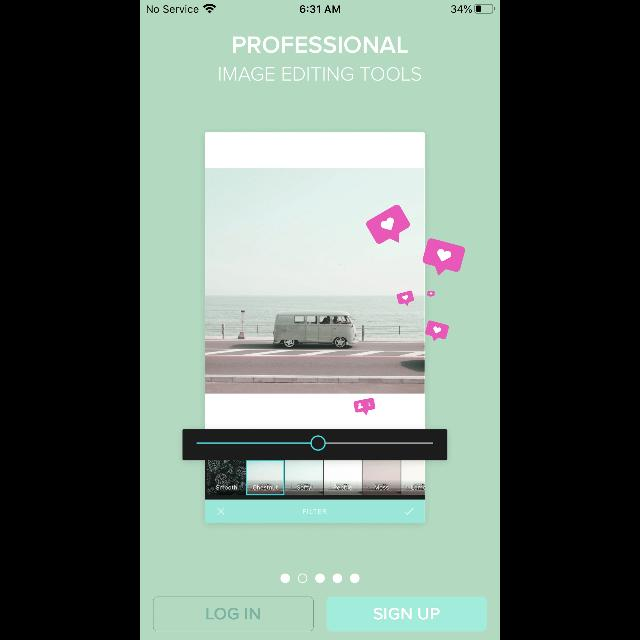image: (183, 133, 465, 523)
pageindicator: (280, 574, 360, 582)
text: (234, 37, 408, 53), (219, 68, 421, 80)
textbutton: (327, 596, 487, 632), (153, 597, 313, 631)
uppertaskbar: (140, 0, 500, 14)
